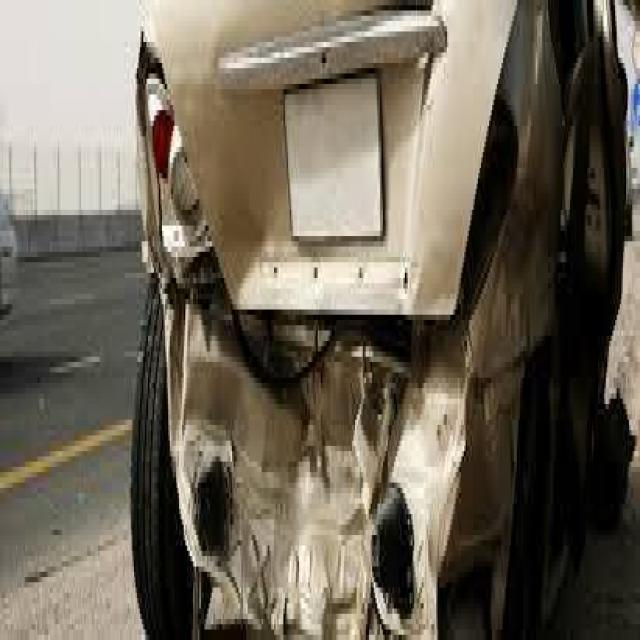damaged: (131, 16, 626, 634)
